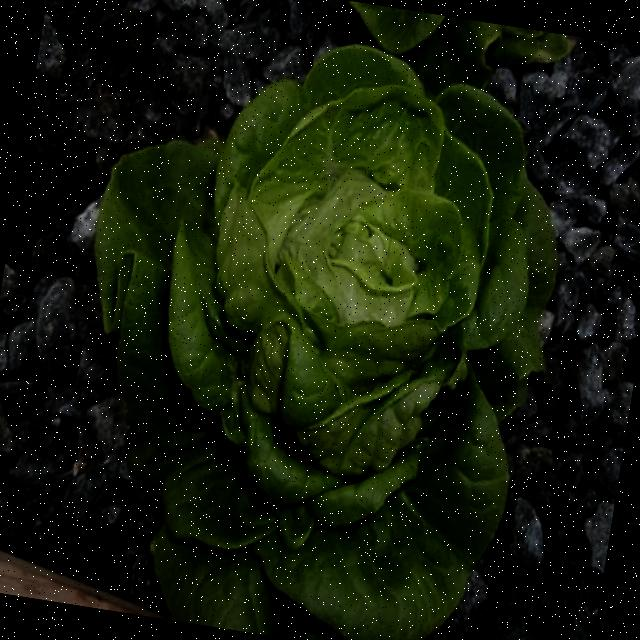healthy: (53, 10, 589, 640)
